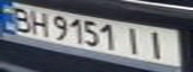1: (97, 21, 118, 52), (66, 16, 84, 44)
5: (81, 18, 100, 47)
9: (48, 12, 72, 42)
B: (3, 3, 36, 34)
H: (24, 8, 51, 37)
I: (142, 28, 175, 61), (121, 25, 148, 56)
